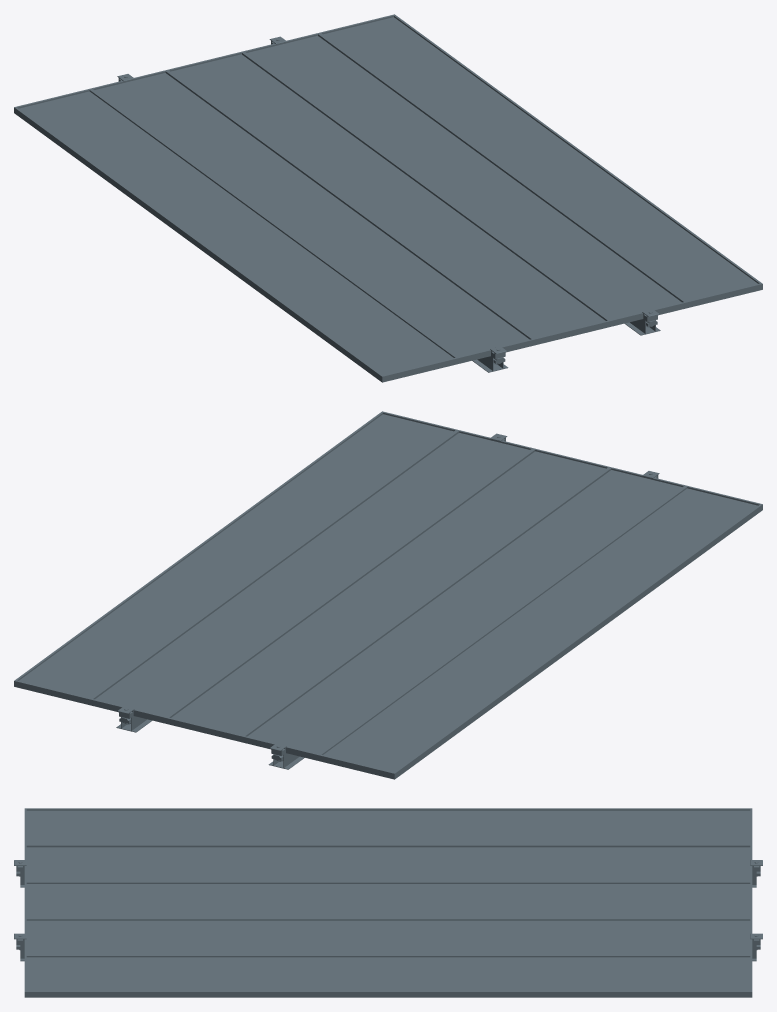
The model's file is SM05_Industrial_SolarPanel_01_Gable.fbx.
The picture shows the model from 3 angles, top to bottom: view 1: azimuth 30°, elevation 25°; view 2: azimuth 150°, elevation 25°; view 3: azimuth 270°, elevation 25°; orthographic projection.
Parts seen in each view (by area): view 1: SM05_Industrial_SolarPanel_01_Gable_Mid; view 2: SM05_Industrial_SolarPanel_01_Gable_Mid; view 3: SM05_Industrial_SolarPanel_01_Gable_Mid.
Part boxes in pixels (x1,y1,x2,y2): SM05_Industrial_SolarPanel_01_Gable_Mid: [14, 14, 762, 382]; SM05_Industrial_SolarPanel_01_Gable_Mid: [14, 411, 762, 779]; SM05_Industrial_SolarPanel_01_Gable_Mid: [14, 808, 762, 997].
Size of the model in its own units: 873 by 46.36 by 1506.
